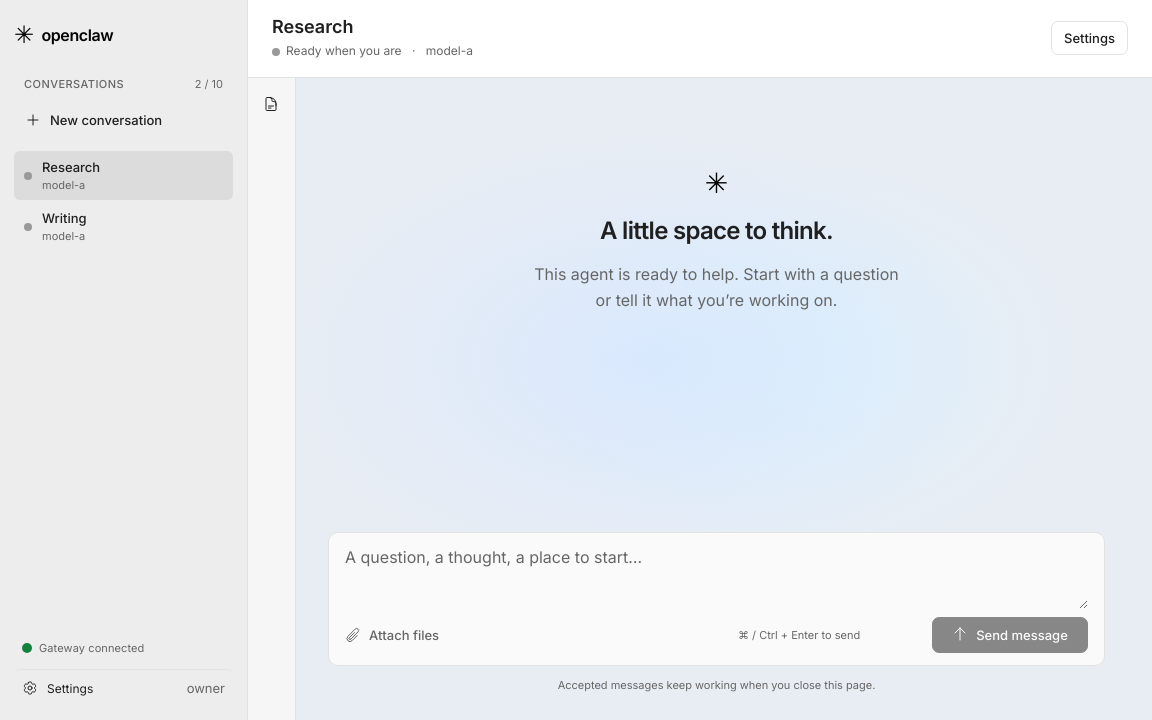
keeps exactly one composer and its draft when agent settings opens and closes repeatedly
Type "Keep this draft" into the text box named "Message Research" at (716, 577), box [345, 545, 1088, 609]
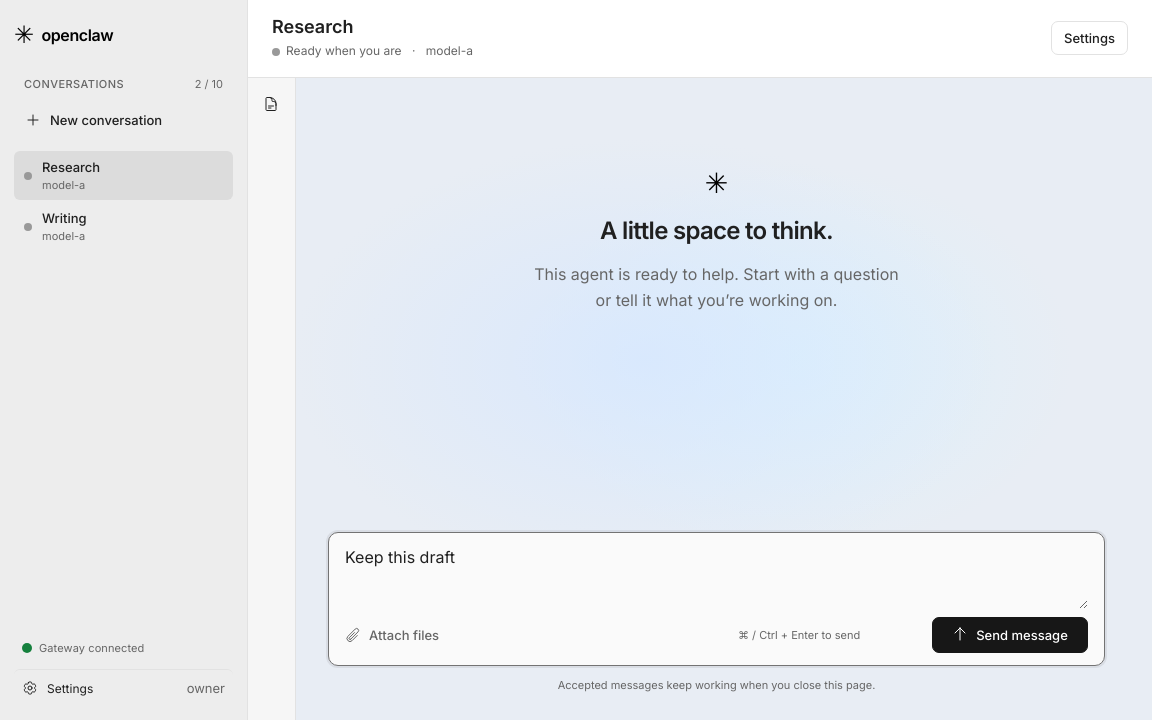
Click the button named "Agent settings" at (1090, 38), box [1051, 21, 1128, 55]
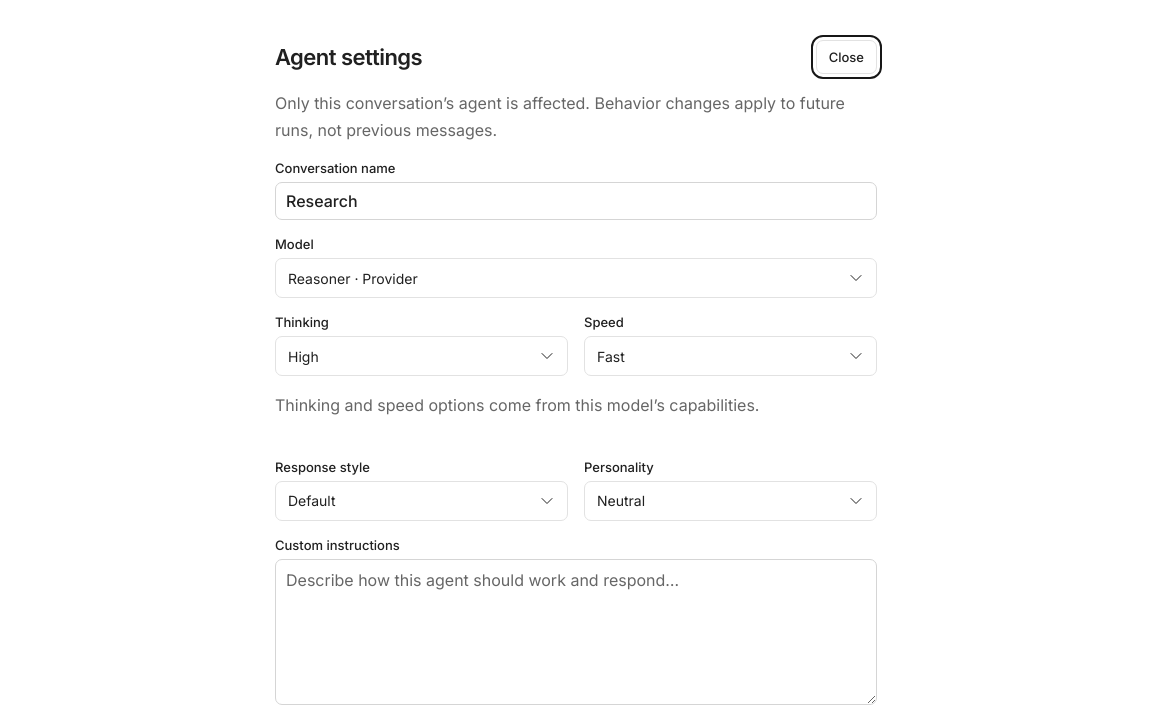
Click the button "Close" at (846, 57), box [816, 40, 877, 74]
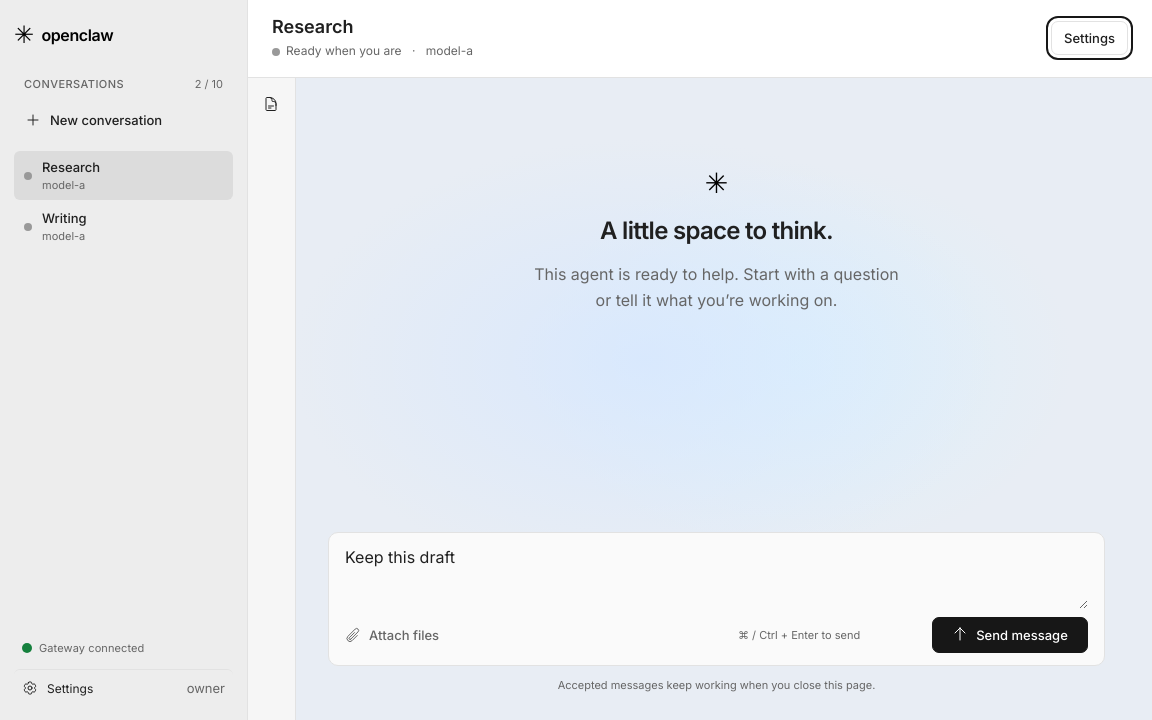
Expected: the number of forms is 1, [328, 532, 1105, 666]
Expected: the dialog is gone
Click the button named "Agent settings" at (1090, 38), box [1051, 21, 1128, 55]
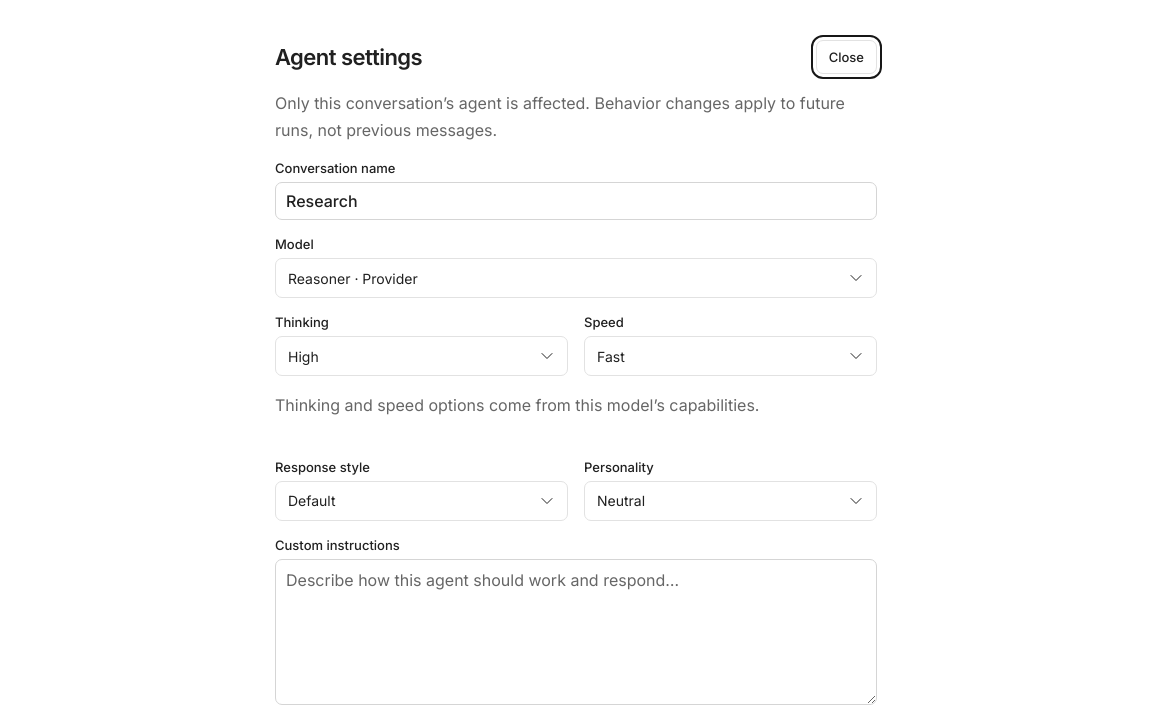
Click the button "Close" at (846, 57), box [816, 40, 877, 74]
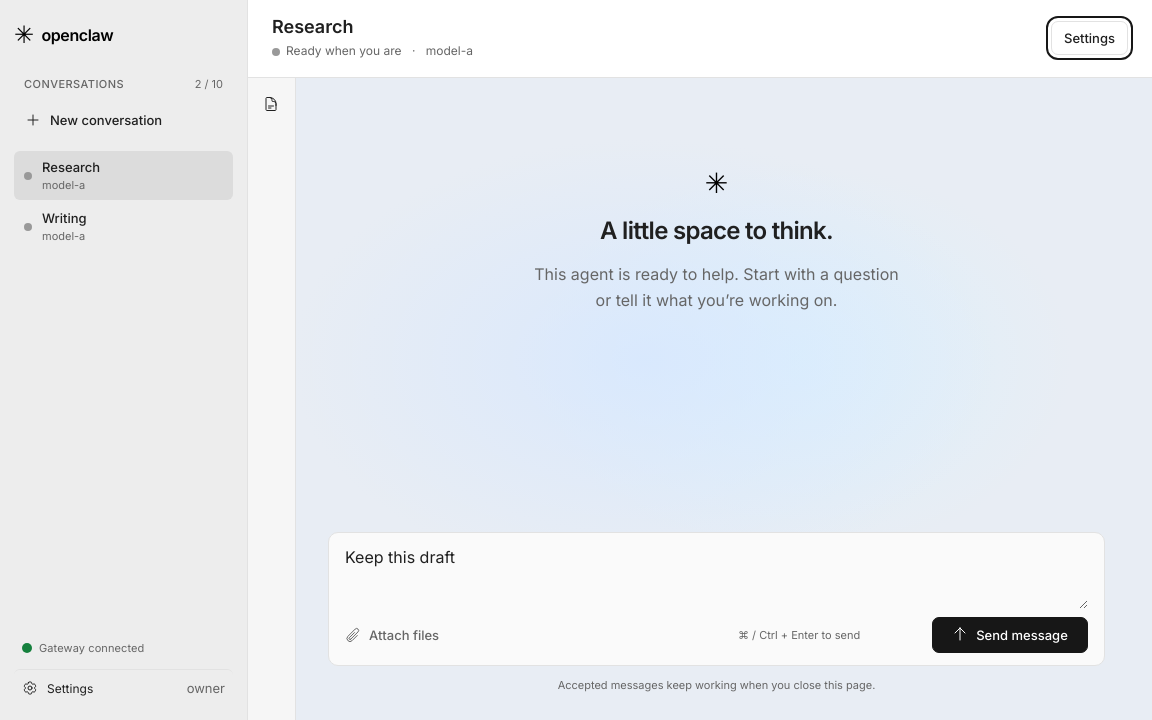
Expected: the number of forms is 1, [328, 532, 1105, 666]
Expected: the dialog is gone
